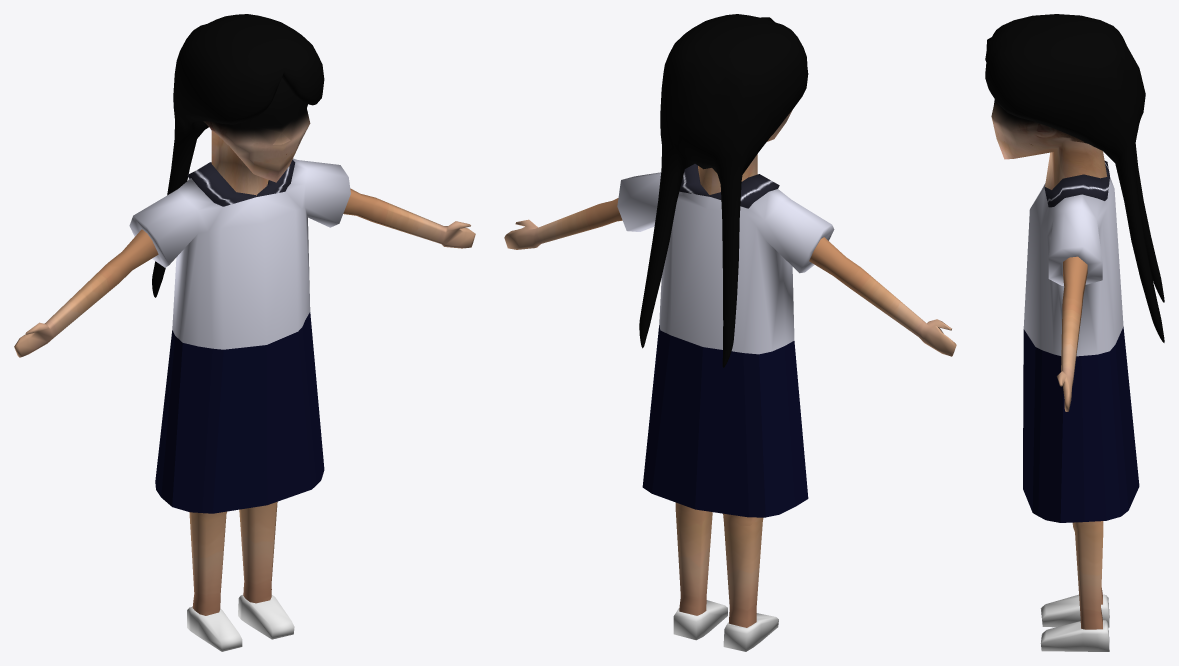
File: StudentTestModel.fbx
3 views of the same model, side by side, from view 1: azimuth 30°, elevation 25°; view 2: azimuth 150°, elevation 25°; view 3: azimuth 270°, elevation 25° (orthographic). The views are drawn at different scales.
Parts seen in each view (by area): view 1: Body.001, Body.004, Hair.001, Body.005, Body.003, Body.006, Body.007; view 2: Body.004, Hair.001, Body.001, Body.006, Body.005, Body.007, Body.003; view 3: Hair.001, Body.004, Body.001, Body.003, Body.007, Body.006, Body.005.
Boxes of the visible parts, x1,y1,x2,y2 form: Body.001: (129,158,350,349); Body.004: (155,312,324,513); Hair.001: (152,14,324,297); Body.005: (14,188,475,357); Body.003: (203,78,310,195); Body.006: (189,501,277,615); Body.007: (187,595,294,651); Body.004: (642,325,808,517); Hair.001: (639,14,808,367); Body.001: (617,164,834,354); Body.006: (675,502,763,627); Body.005: (504,198,956,356); Body.007: (673,600,778,651); Body.003: (698,110,792,194); Hair.001: (985,14,1164,342); Body.004: (1023,327,1139,522); Body.001: (1023,161,1123,356); Body.003: (991,99,1107,189); Body.007: (1040,594,1109,651); Body.006: (1072,521,1103,629); Body.005: (1057,256,1087,411).
Size of the model in its own units: 1000 by 1265 by 337.
